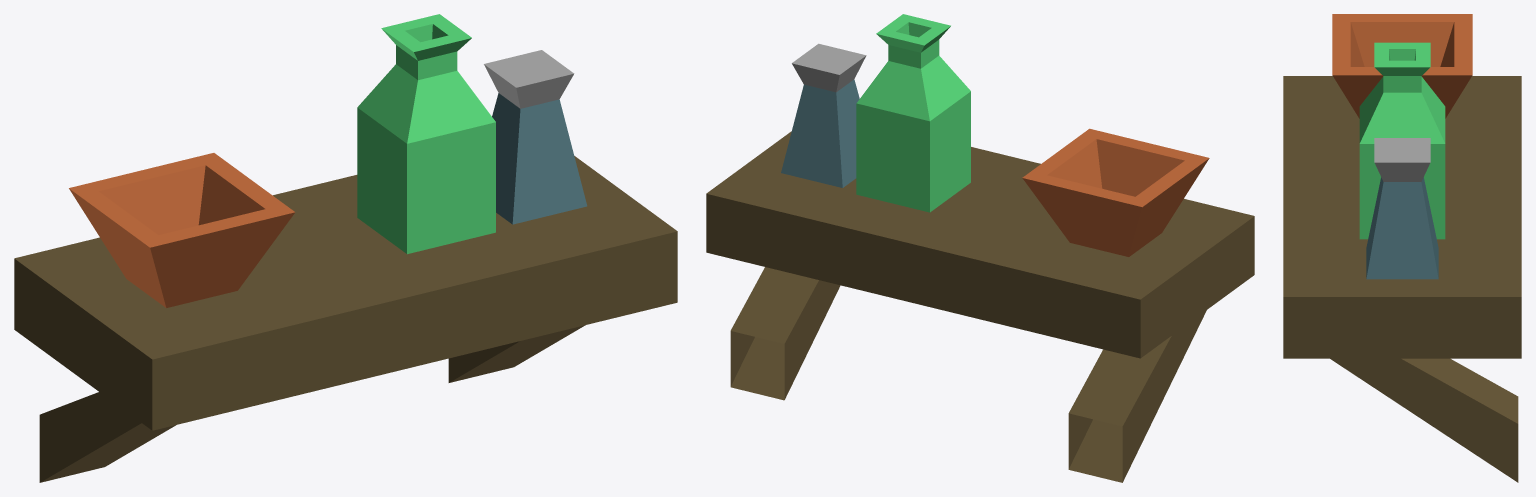
The model's file is Wall Shelf 01.FBX.
The picture shows the model from 3 angles, left to right: view 1: azimuth 30°, elevation 25°; view 2: azimuth 150°, elevation 25°; view 3: azimuth 270°, elevation 25°; orthographic projection. The views are drawn at different scales.
Parts seen in each view (by area): view 1: Wall Shelf 01; view 2: Wall Shelf 01; view 3: Wall Shelf 01.
Boxes of the visible parts, box(x1,y1,x2,y2) form: Wall Shelf 01: box(14, 14, 677, 482); Wall Shelf 01: box(706, 14, 1254, 482); Wall Shelf 01: box(1283, 14, 1521, 482).
Bounding box in the file's own units: 128 × 98.01 × 58.33.
